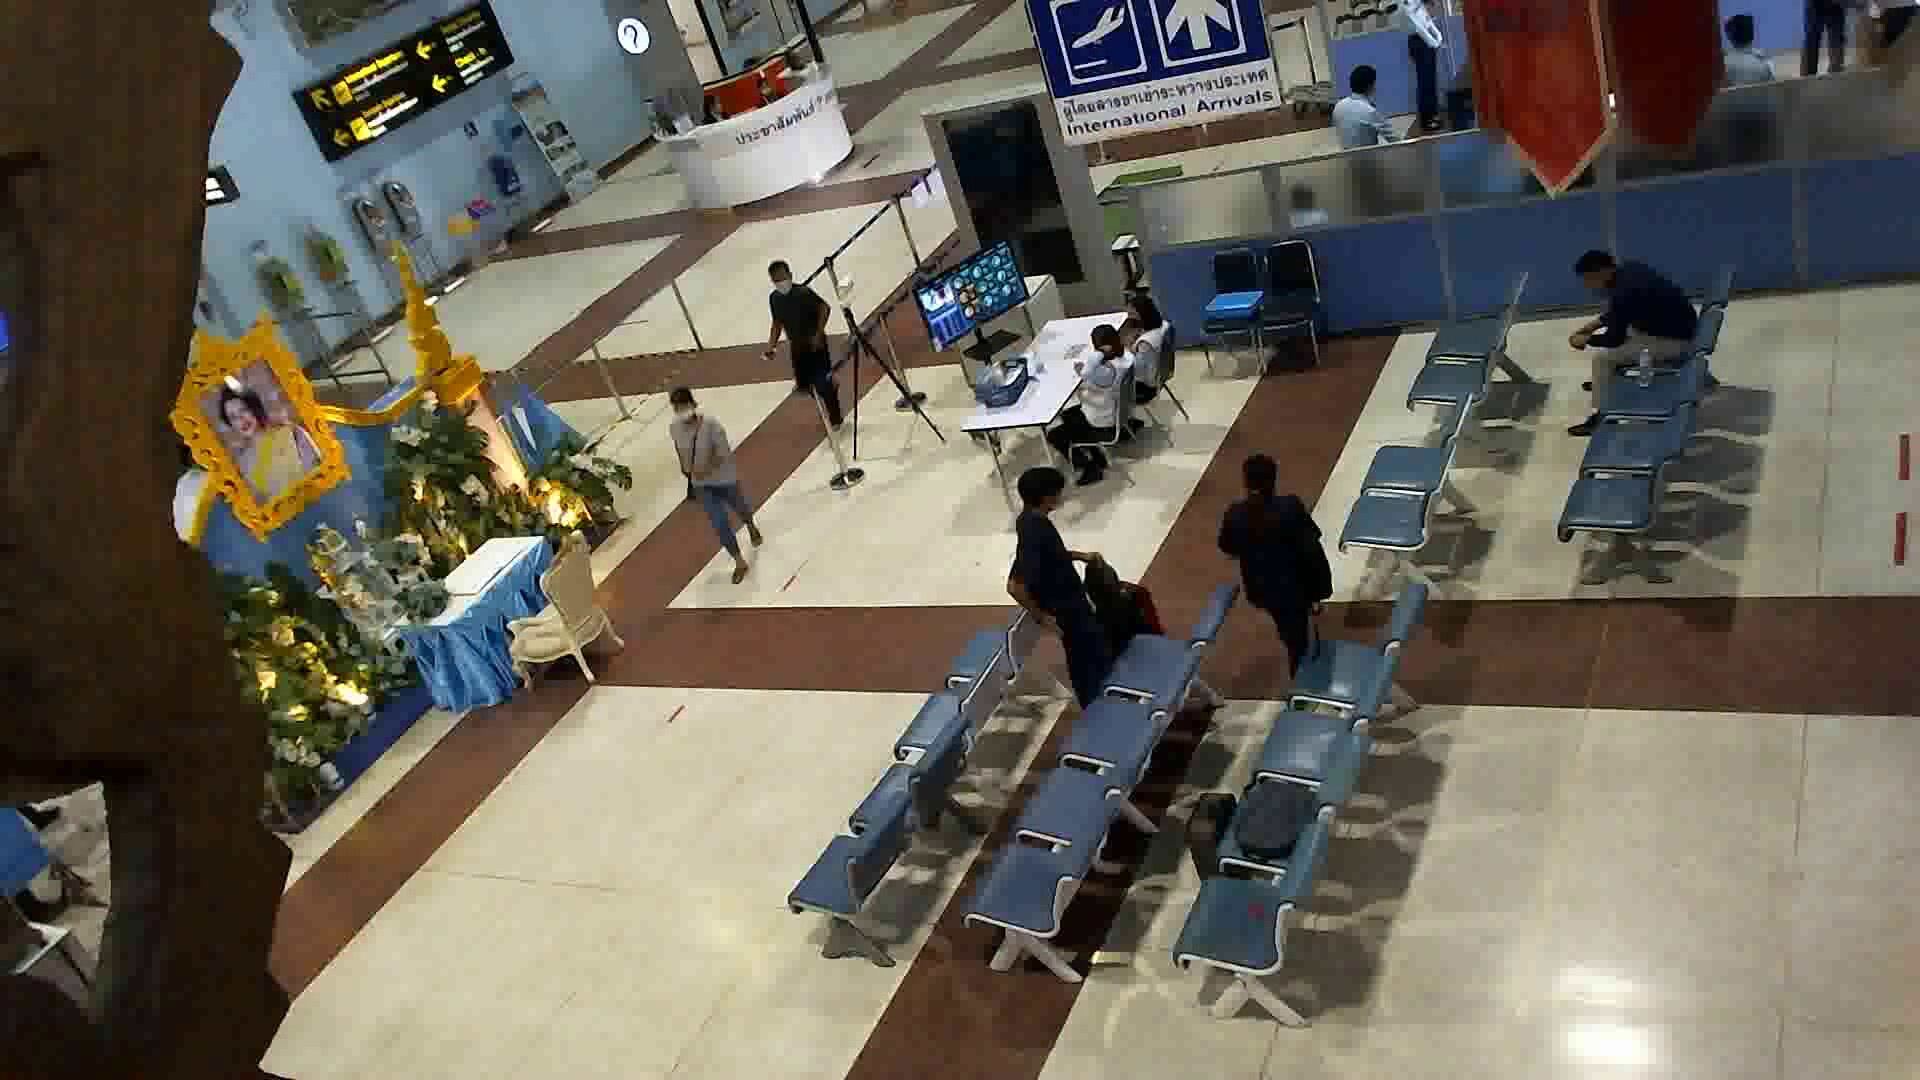backpack: (1237, 770, 1310, 857), (1079, 553, 1120, 605)
luggage: (1179, 790, 1237, 890), (1101, 580, 1162, 668)
people: (1556, 230, 1716, 445), (1212, 447, 1341, 695), (1006, 463, 1108, 728), (662, 380, 766, 591), (760, 249, 853, 440), (1047, 324, 1128, 478), (1118, 288, 1179, 407)
